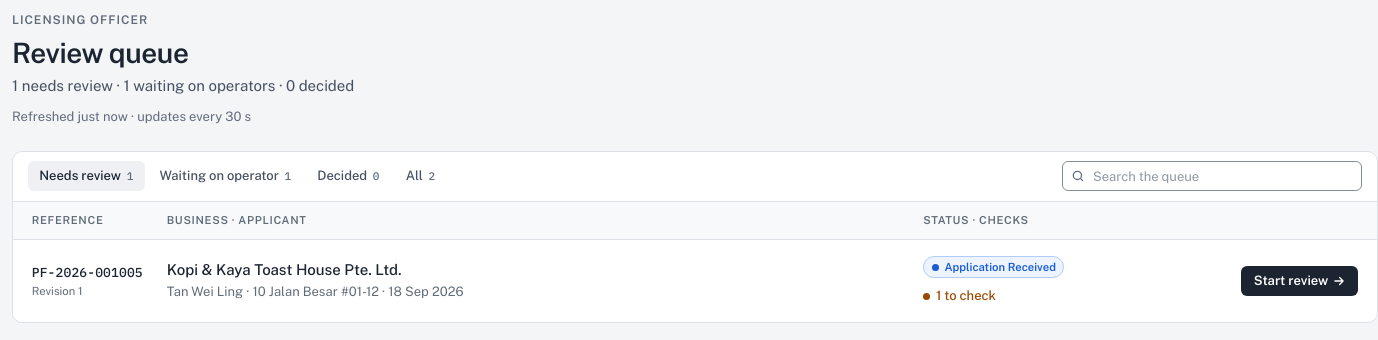
it: OfficerQueuePage › lists the officer label and next action, and filters by whose turn it is
Expected: the text "PF-2026-001005" is shown, left=32, top=262, right=152, bottom=284
Expected: the text "Application Received" is shown, left=923, top=256, right=1064, bottom=278
Click the tab "Waiting on operator 1" at (225, 176), box left=148, top=161, right=302, bottom=191
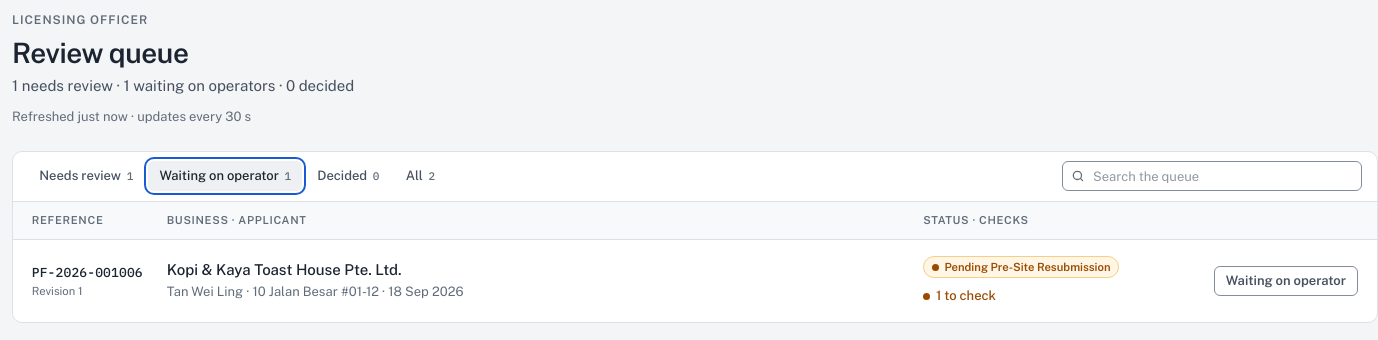
Result: the text "PF-2026-001006" is shown at left=32, top=262, right=152, bottom=284
Result: the link "PF-2026-001005" is gone
